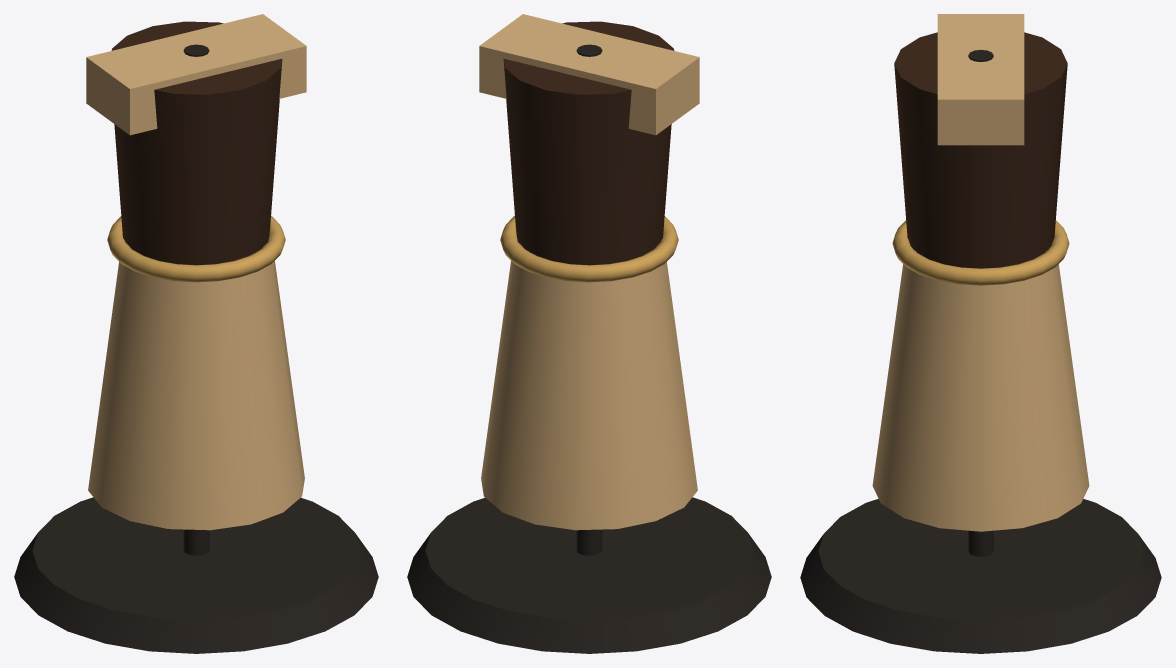
The model's file is clothing-batik-parang.glb.
3 renders of one model, left to right at view 1: azimuth 30°, elevation 25°; view 2: azimuth 150°, elevation 25°; view 3: azimuth 270°, elevation 25°, orthographic.
Size of the model in its own units: 1 by 1.59 by 1.
